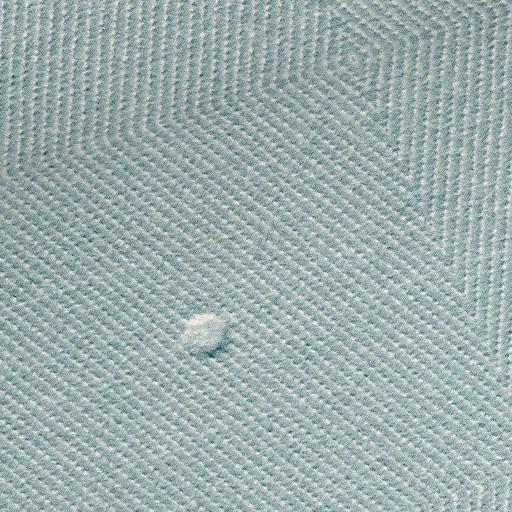knot: (170, 307, 236, 361)
